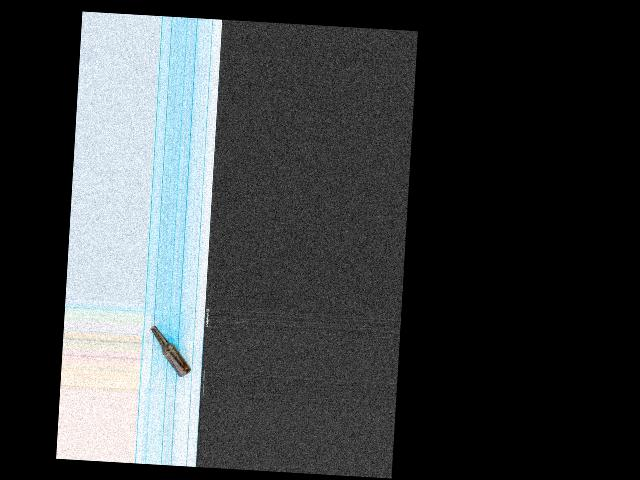beer: (147, 325, 194, 378)
